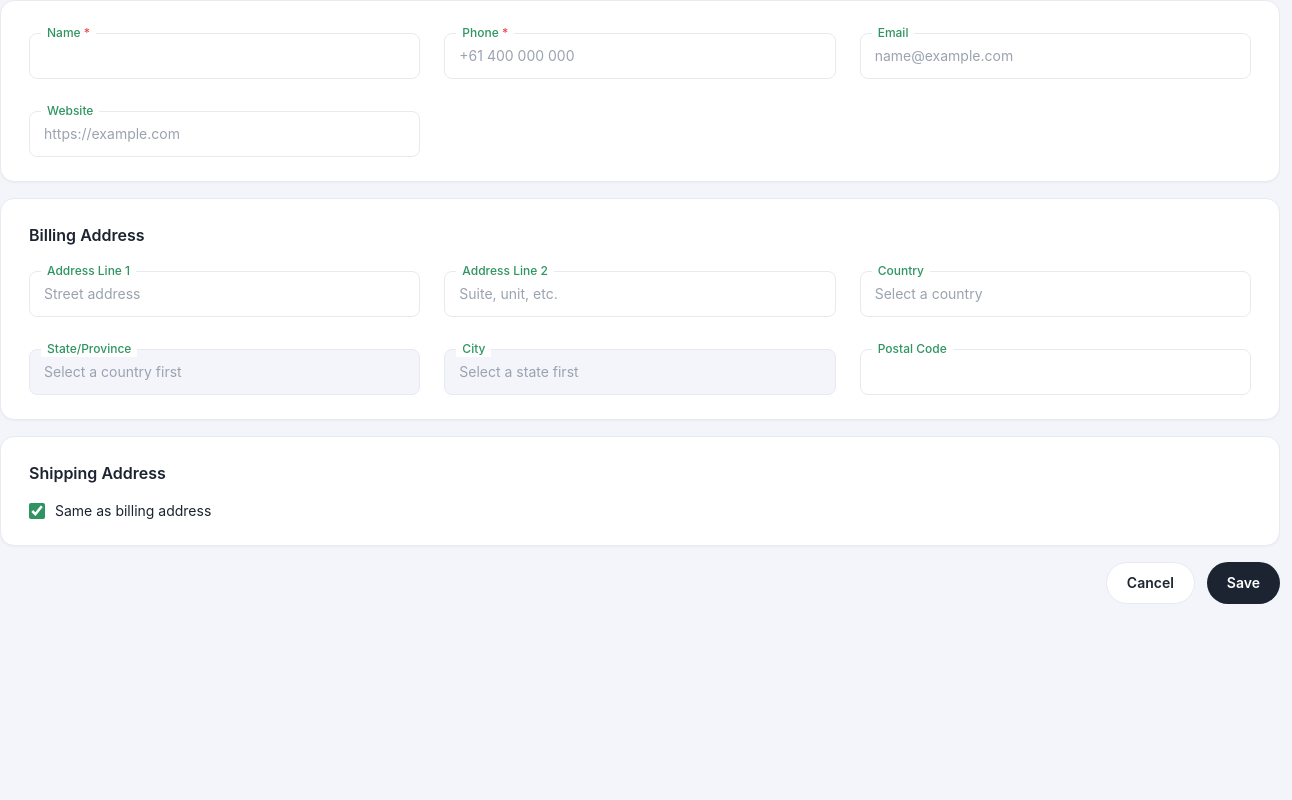
Test: CompanyForm (spec 2.8.1) › rejects an invalid email and an invalid website
Type "Acme Genetics" into the field labelled "Name *" at (225, 56), box [29, 33, 420, 79]
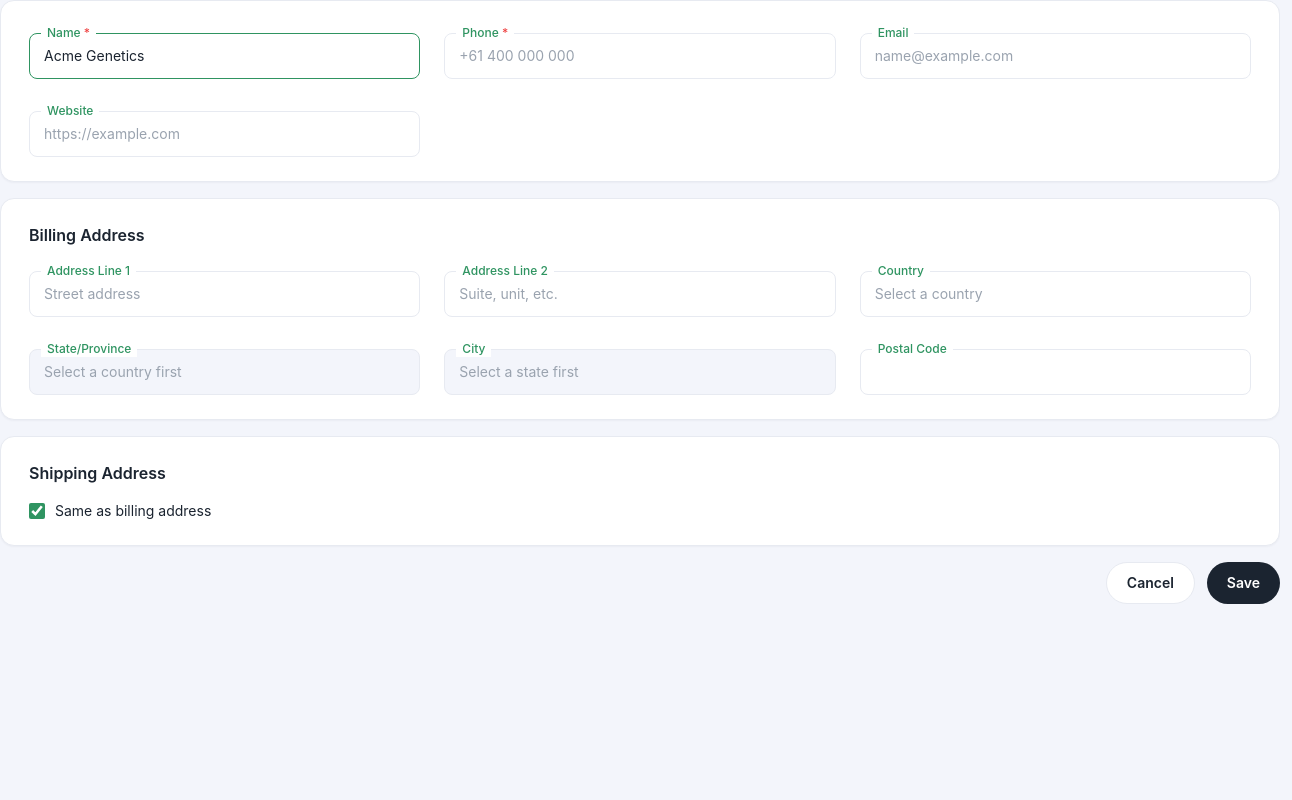
Type "+61400000000" into the field labelled "Phone *" at (640, 56), box [444, 33, 836, 79]
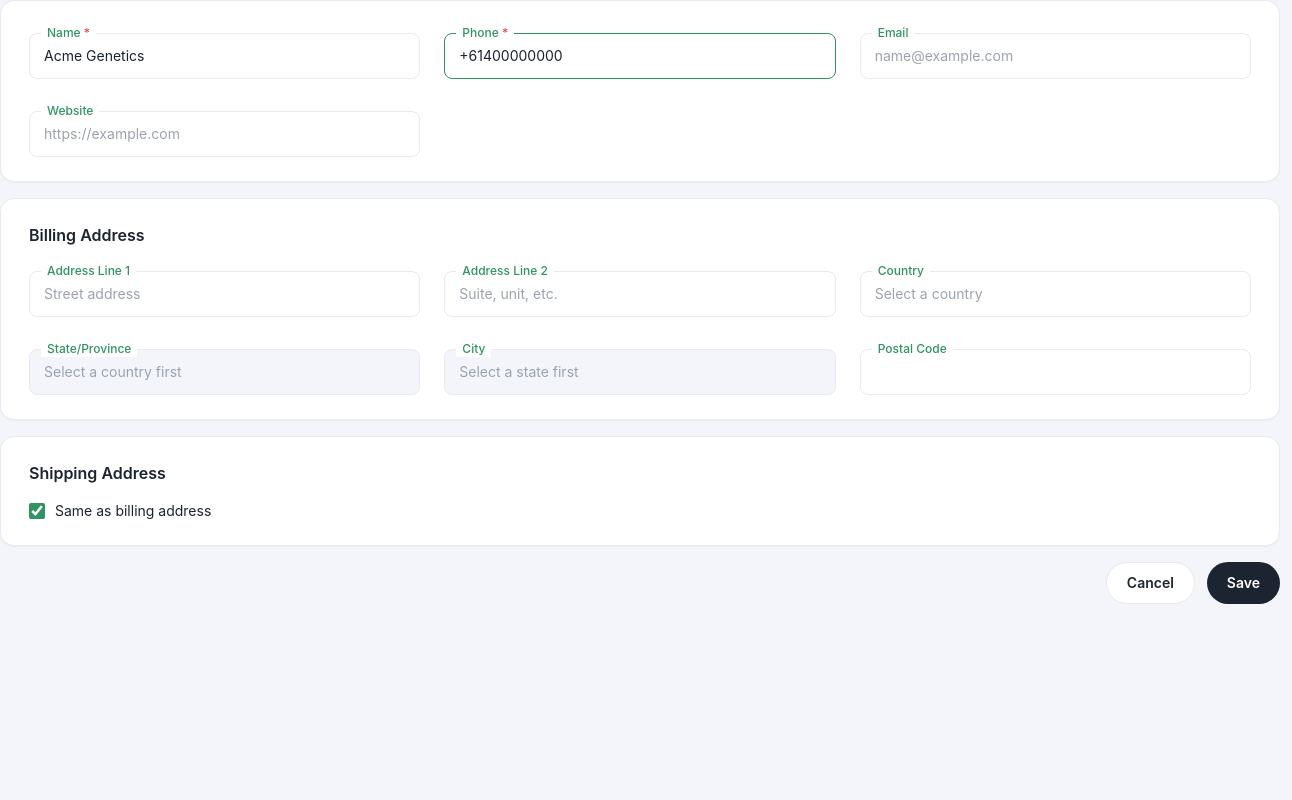
Type "nope@" into the field labelled "Email" at (1055, 56), box [860, 33, 1251, 79]
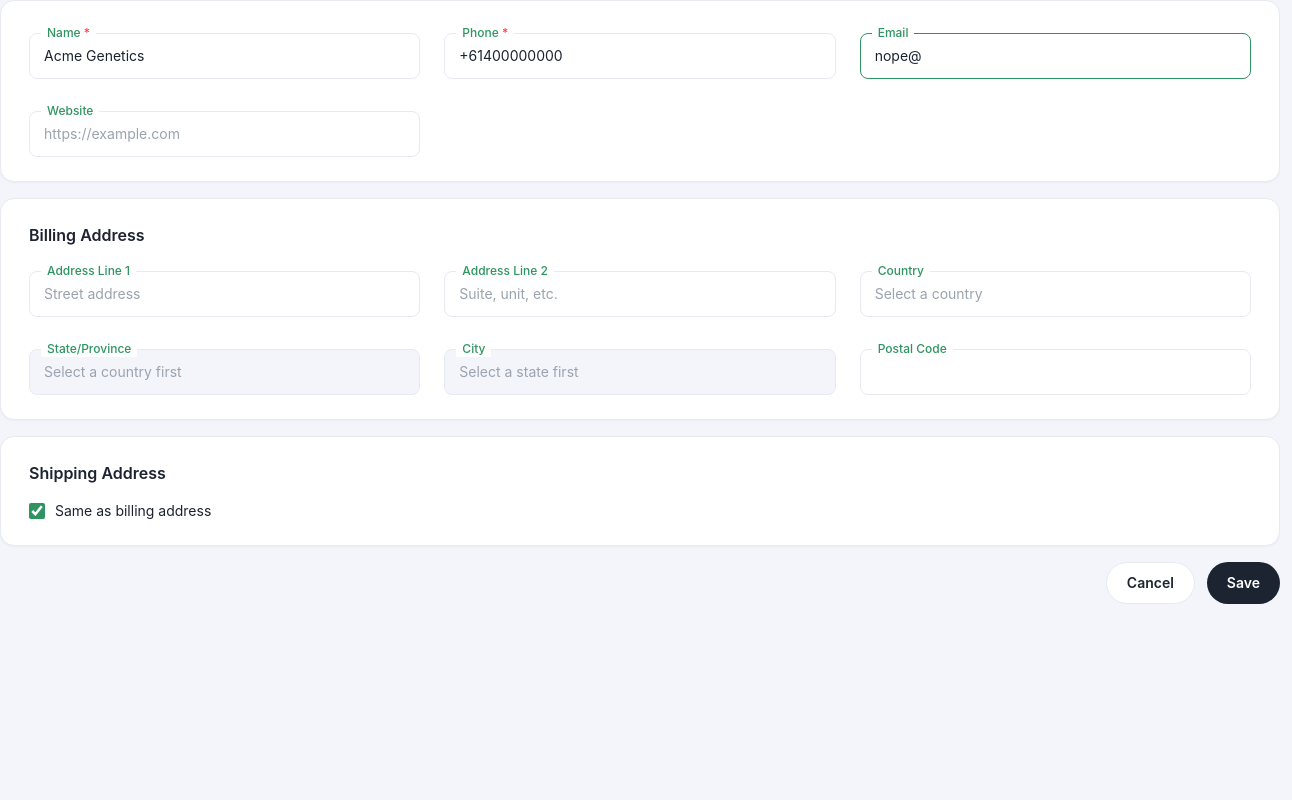
Type "acme" into the field labelled "Website" at (225, 134), box [29, 111, 420, 157]
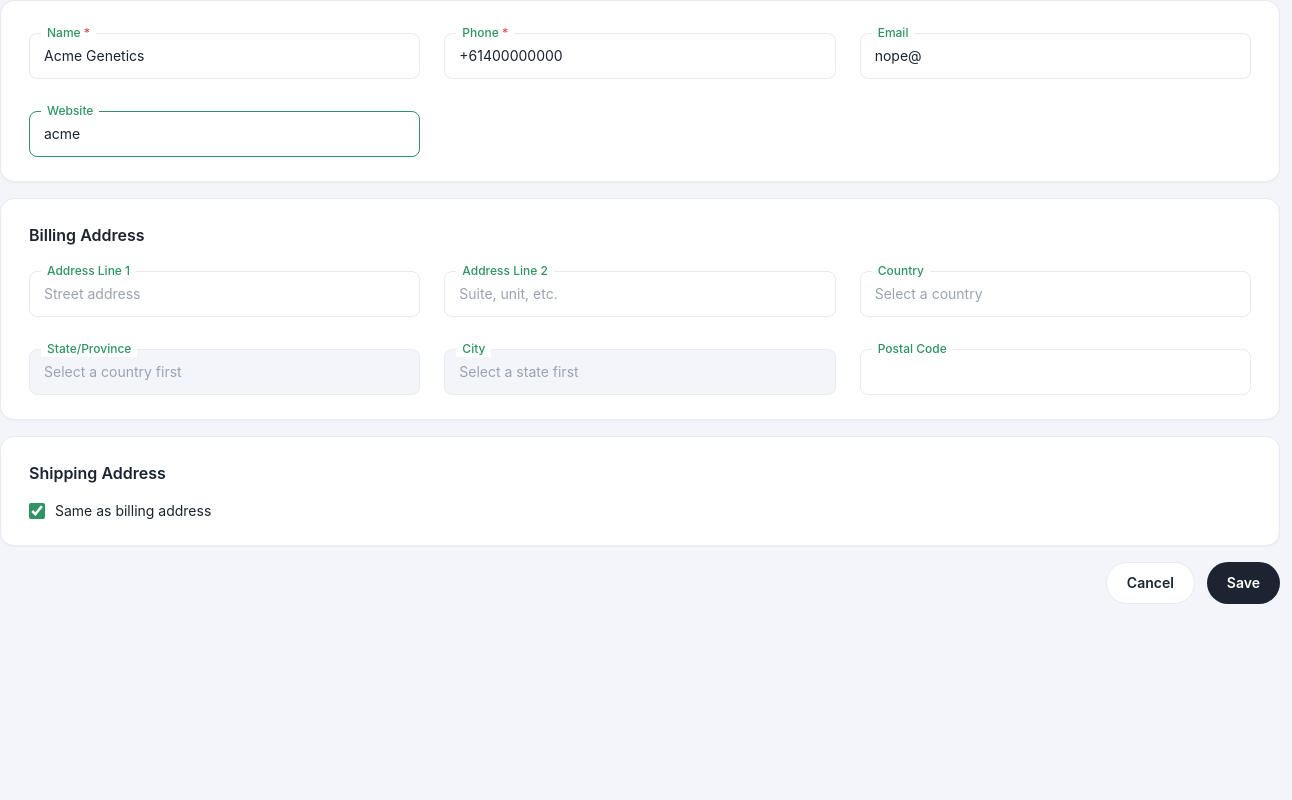
Click the button "Save" at (1243, 583), box [1207, 562, 1280, 604]
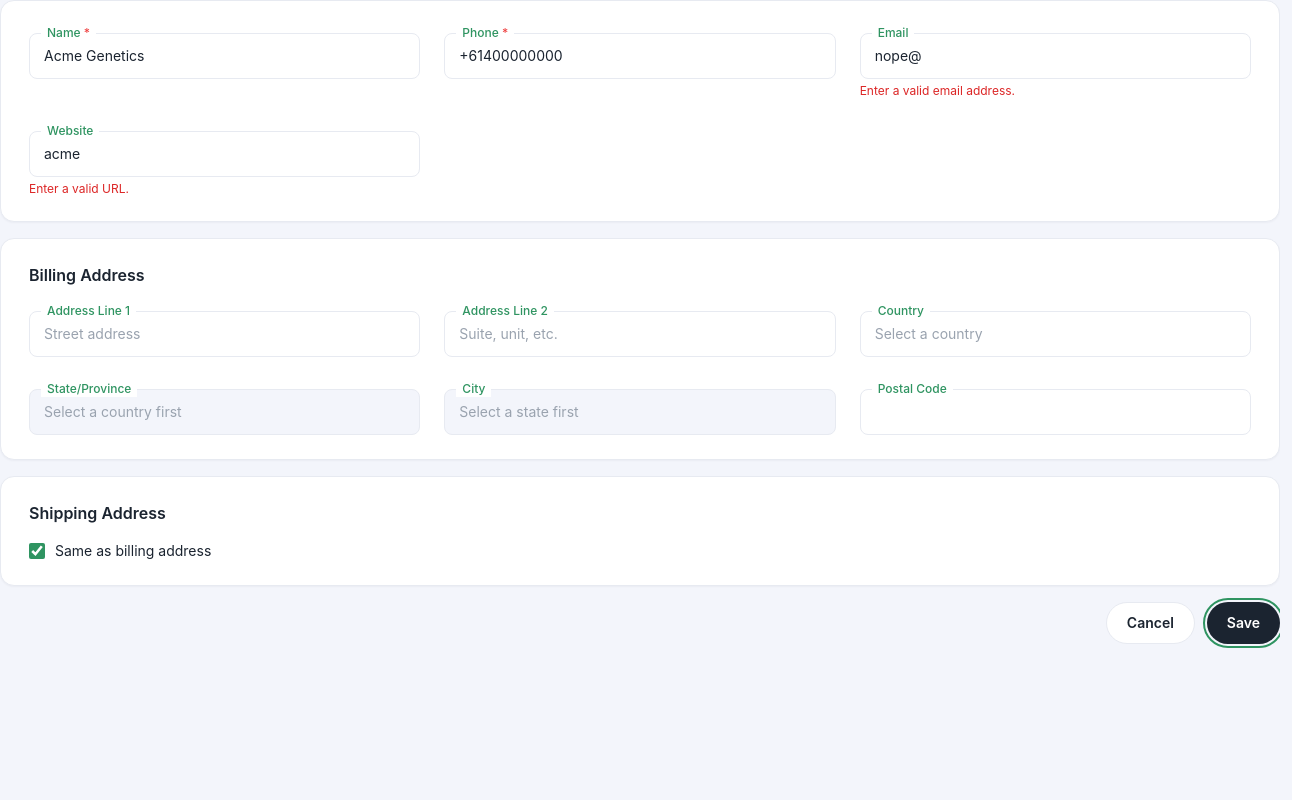
Check: the text "Enter a valid email address." is shown, box [860, 83, 1015, 98]
Check: the text "Enter a valid URL." is shown, box [29, 181, 129, 196]
